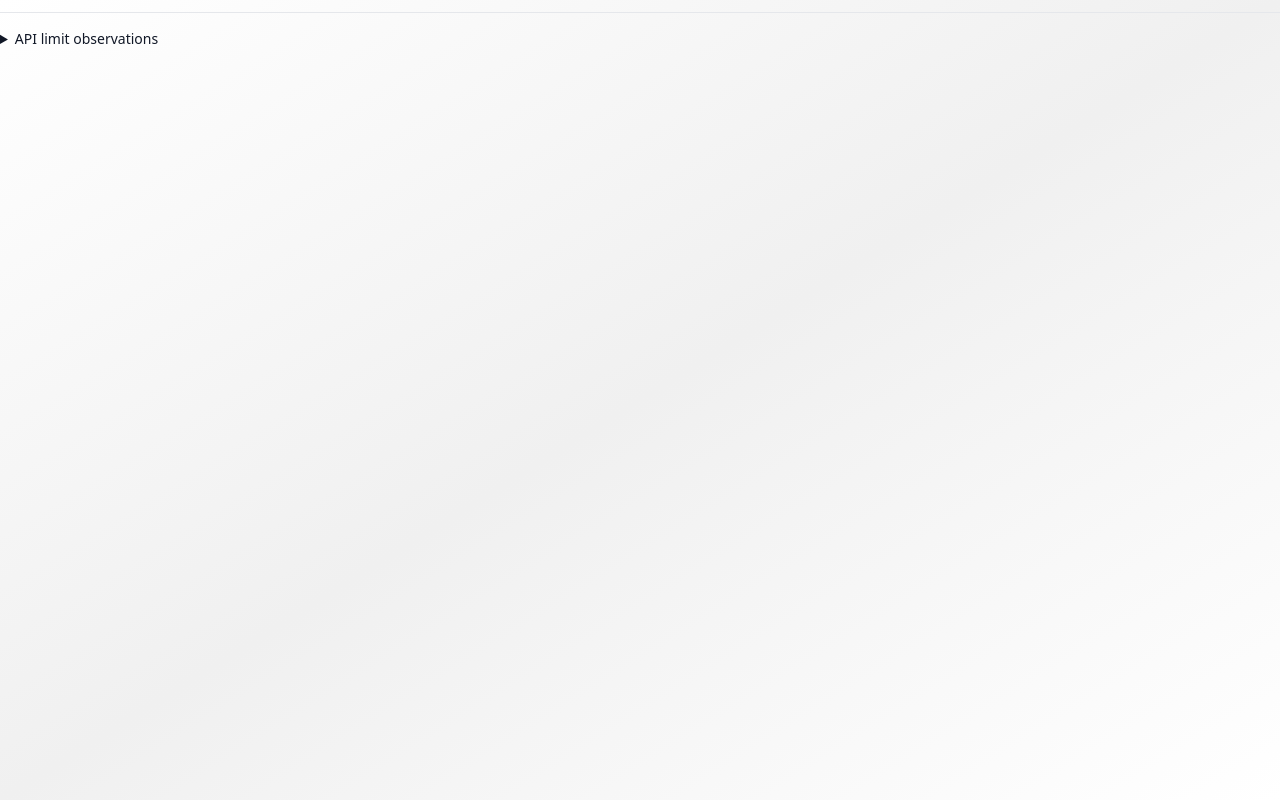
Test: provider HTTP limit observations › shows a status-only subscription observation with status rejected
The image size is (1280, 800).
Click the heading "API limit observations" at (86, 38), box [15,29,158,48]
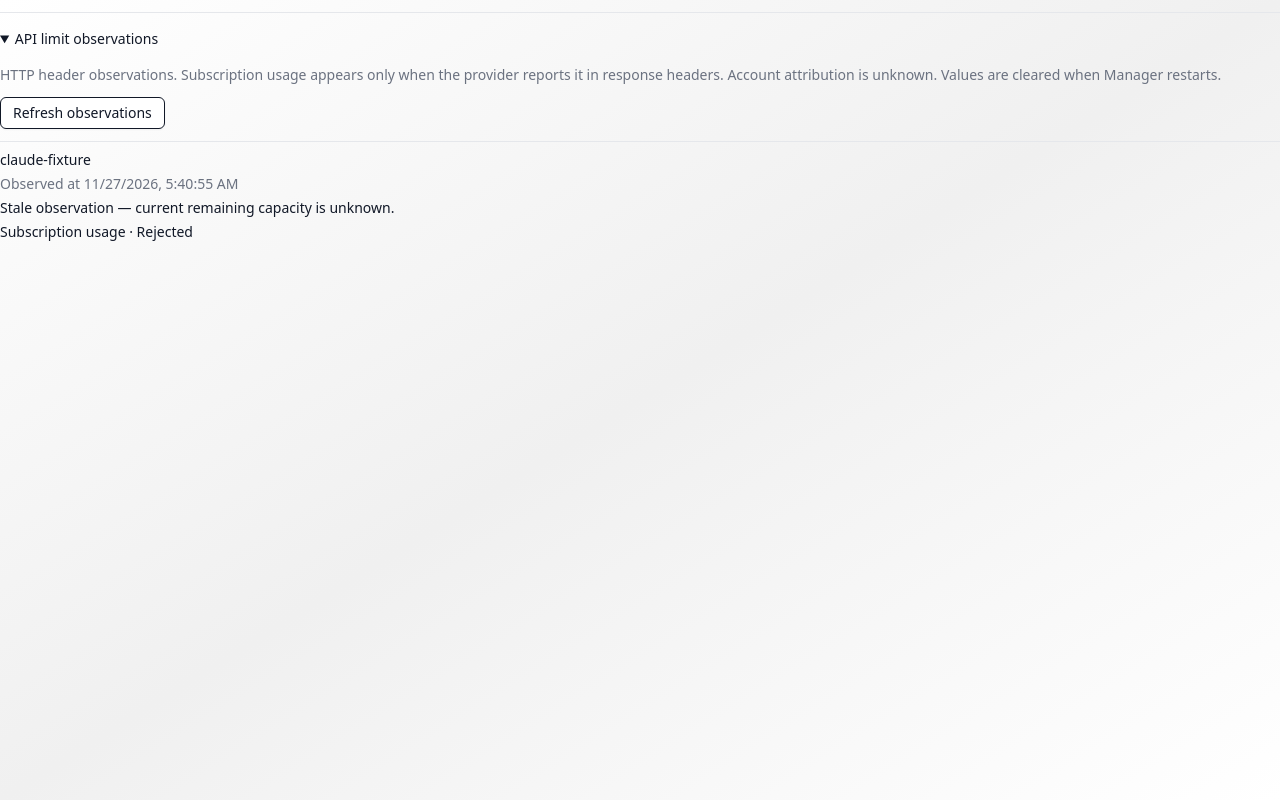
Check: the element with test id "subscription-usage" does not show "function", box [0,222,193,241]
Check: the element with test id "subscription-usage" reads "Subscription usage · Rejected", box [0,222,193,241]
